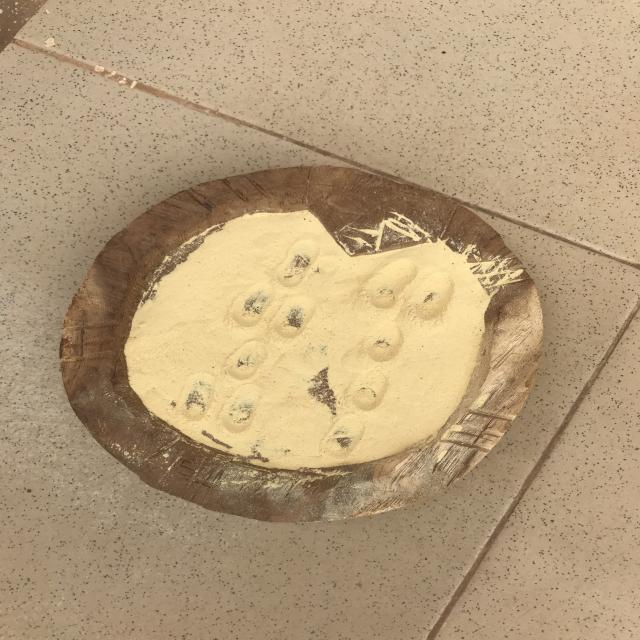double: (359, 256, 461, 320), (178, 374, 262, 434), (225, 286, 323, 336)
single: (268, 235, 330, 288), (309, 413, 372, 460), (218, 338, 278, 381), (359, 318, 412, 364), (344, 368, 396, 412)
